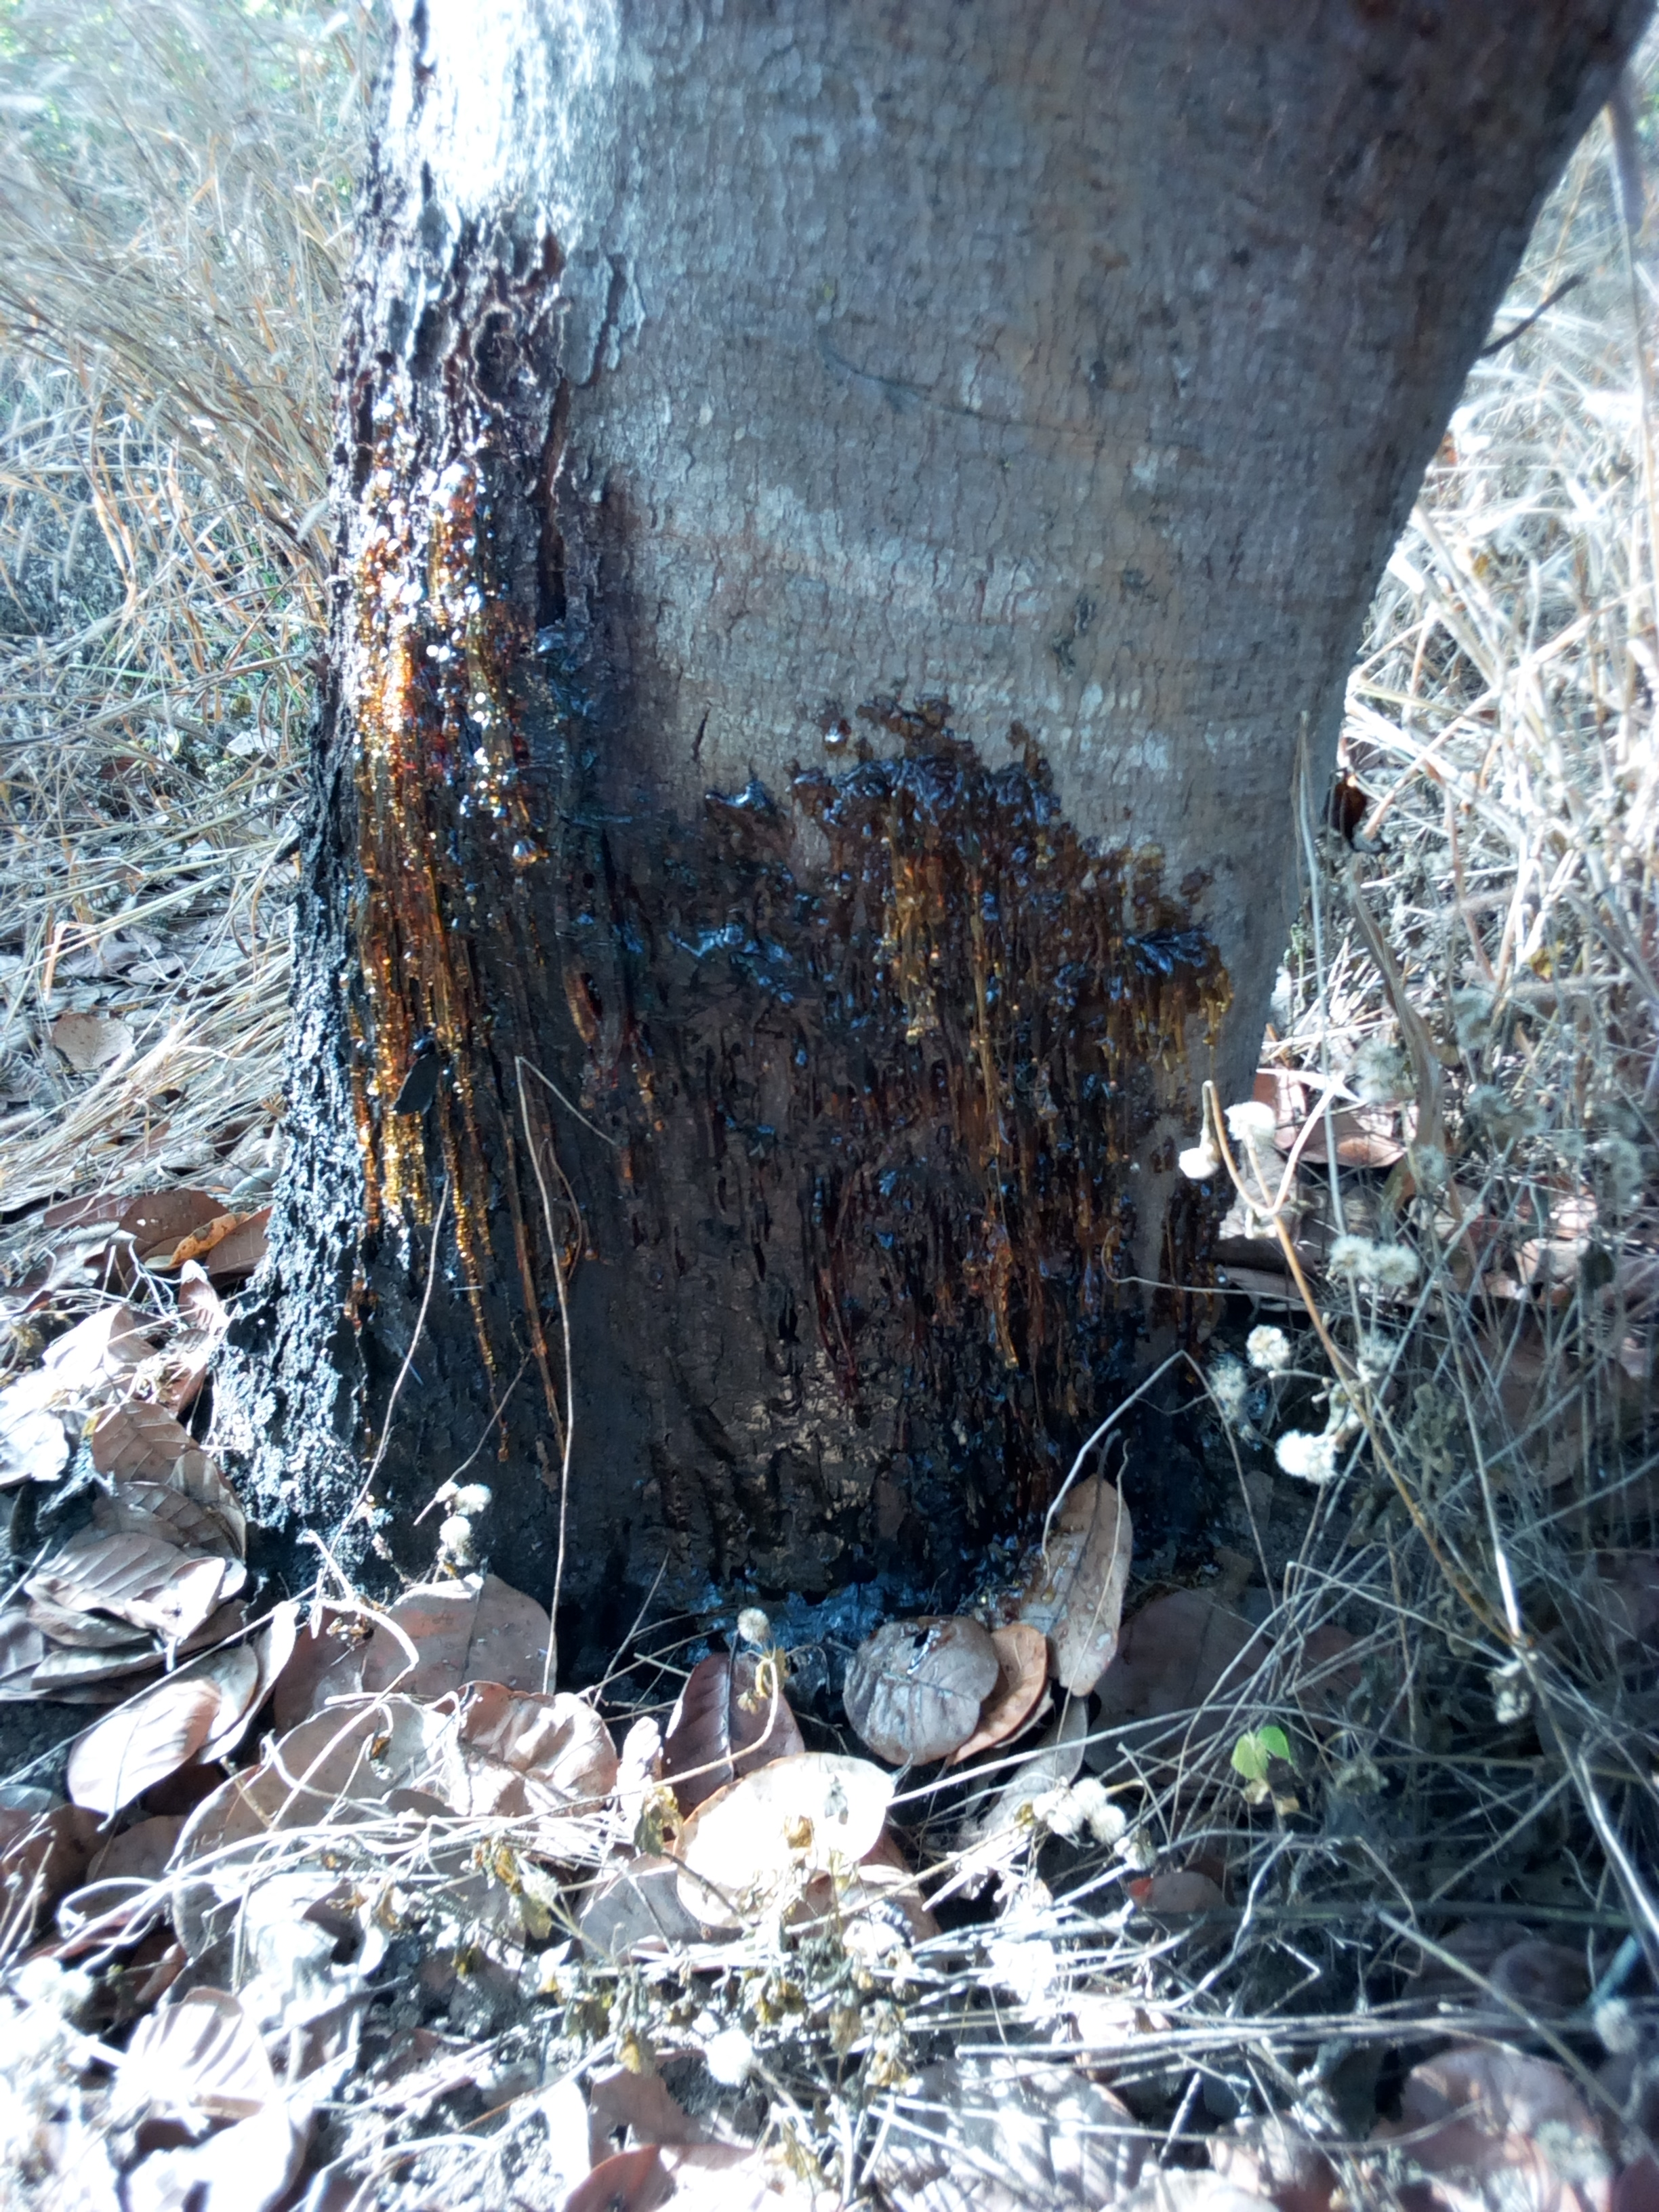Gommose: (301, 211, 1239, 1597)
